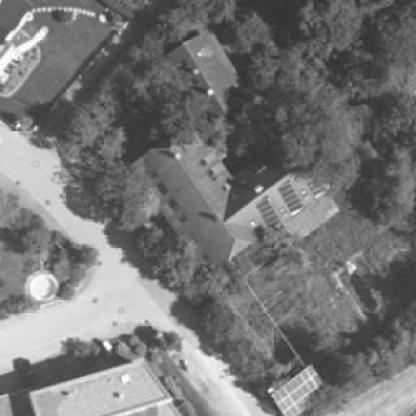solar-pv-panel: (270, 363, 324, 416), (277, 180, 304, 214), (255, 198, 281, 232), (300, 164, 326, 197)
